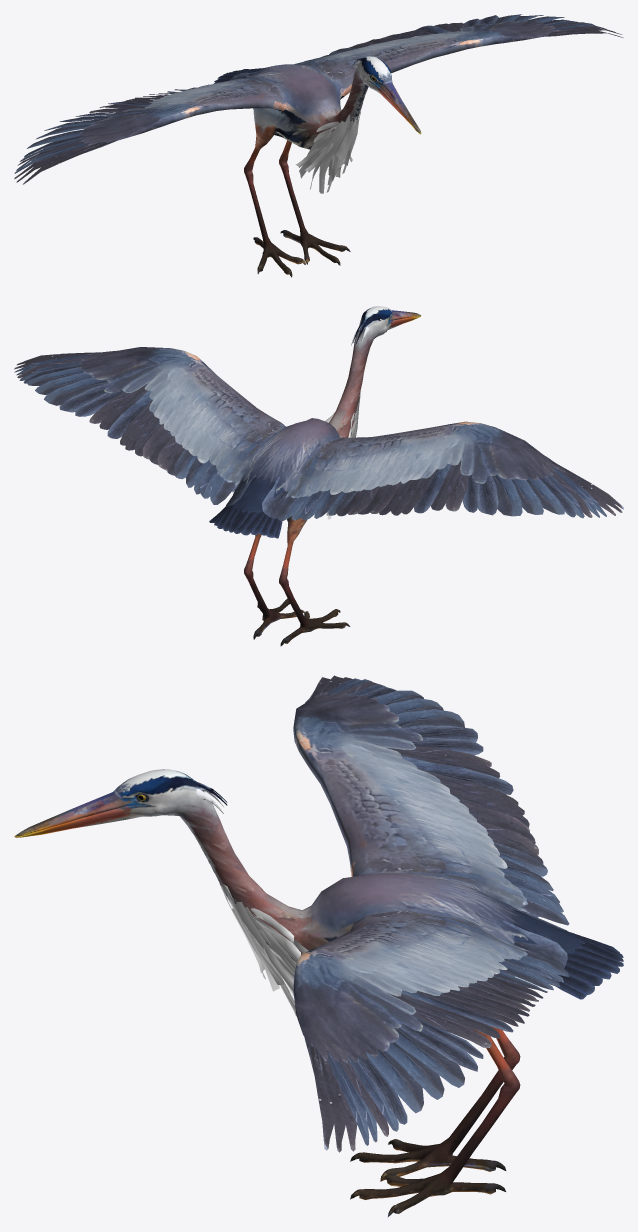
The model's file is Heron.fbx.
3 renders of one model, top to bottom at view 1: azimuth 30°, elevation 25°; view 2: azimuth 150°, elevation 25°; view 3: azimuth 270°, elevation 25°, orthographic. The views are drawn at different scales.
Parts seen in each view (by area): view 1: sm_1_0_0, sm_2_0_0; view 2: sm_1_0_0; view 3: sm_1_0_0, sm_2_0_0.
Boxes of the visible parts, x1,y1,x2,y2 form: sm_1_0_0: (14, 14, 623, 277); sm_2_0_0: (295, 112, 360, 193); sm_1_0_0: (14, 306, 623, 646); sm_1_0_0: (14, 675, 623, 1216); sm_2_0_0: (219, 883, 308, 1015).
Size of the model in its own units: 131 by 53.04 by 71.28.
Materials: 2 (2 with a texture image).
